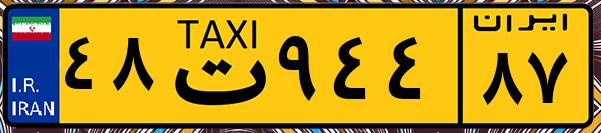4: (385, 28, 445, 110), (330, 28, 385, 110), (57, 26, 110, 100)
7: (525, 38, 570, 115)
8: (475, 38, 525, 113), (110, 28, 158, 98)
9: (270, 28, 330, 110)
ت: (158, 12, 270, 120)
